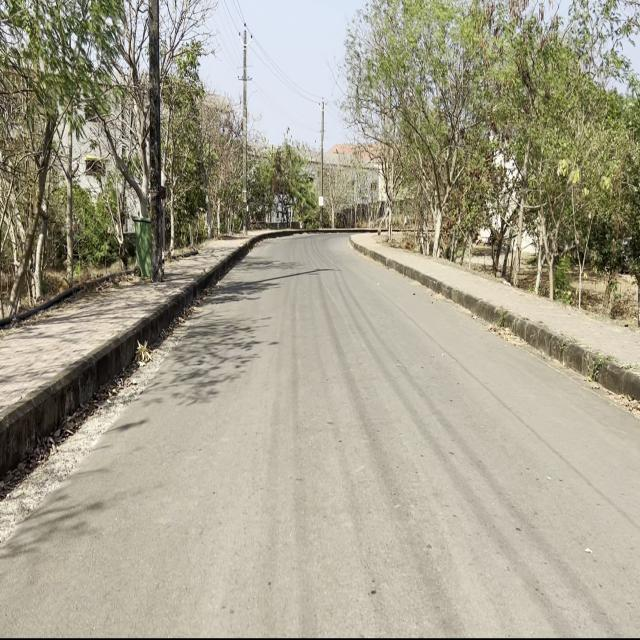Road: (4, 237, 634, 633)
